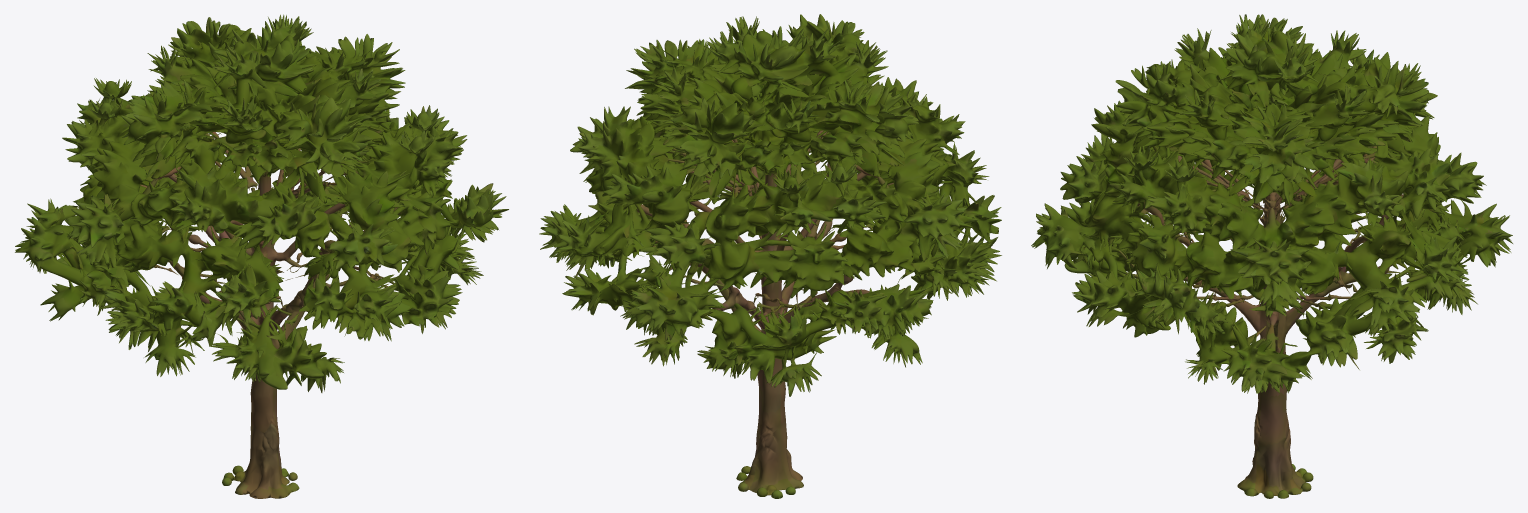
Rendered from tree-main.glb.
3 views of the same model, side by side, from view 1: azimuth 30°, elevation 25°; view 2: azimuth 150°, elevation 25°; view 3: azimuth 270°, elevation 25° (orthographic).
Visible parts, largest first — view 1: tripo_node_03450226-3ecb-4030-a114-9f108efa7b98; view 2: tripo_node_03450226-3ecb-4030-a114-9f108efa7b98; view 3: tripo_node_03450226-3ecb-4030-a114-9f108efa7b98.
Boxes of the visible parts, x1=… form: tripo_node_03450226-3ecb-4030-a114-9f108efa7b98: x1=15, y1=14, x2=508, y2=498; tripo_node_03450226-3ecb-4030-a114-9f108efa7b98: x1=539, y1=14, x2=1001, y2=498; tripo_node_03450226-3ecb-4030-a114-9f108efa7b98: x1=1031, y1=14, x2=1512, y2=498.
Size of the model in its own units: 0.918 by 0.9941 by 0.9642.
Materials: 1 (1 with a texture image).
